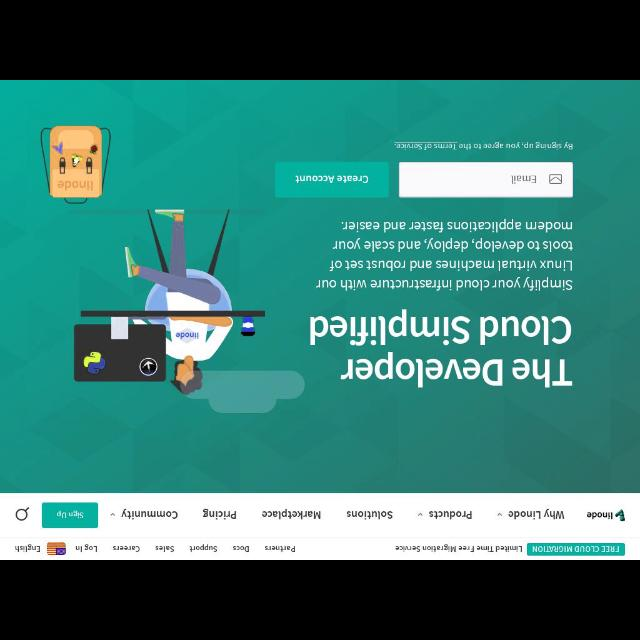icon: (15, 506, 31, 520), (548, 174, 564, 184), (416, 512, 424, 516), (498, 511, 502, 517), (110, 512, 116, 516)
image: (74, 209, 302, 413), (40, 127, 110, 206), (586, 508, 626, 522), (48, 542, 66, 554)
input: (400, 163, 572, 197)
multitab: (1, 536, 639, 560)
spinner: (109, 509, 178, 521), (496, 508, 564, 518), (414, 509, 472, 519)
text: (310, 309, 572, 385), (316, 220, 572, 292), (393, 142, 572, 150), (394, 543, 524, 553), (530, 544, 620, 554), (292, 174, 368, 184), (120, 508, 180, 520), (262, 508, 322, 520), (508, 509, 566, 518), (346, 509, 394, 519), (428, 509, 472, 518), (510, 172, 536, 185), (204, 508, 236, 518), (56, 508, 84, 518), (14, 543, 40, 553), (263, 544, 295, 552), (188, 544, 218, 552), (74, 543, 98, 553), (114, 544, 140, 552), (156, 543, 176, 553), (232, 544, 250, 552)
textbutton: (275, 163, 389, 197), (42, 502, 98, 528)
toolbar: (1, 494, 640, 536)
